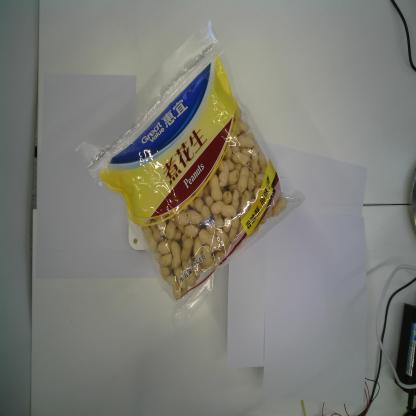Dried Food: (68, 13, 306, 335)
